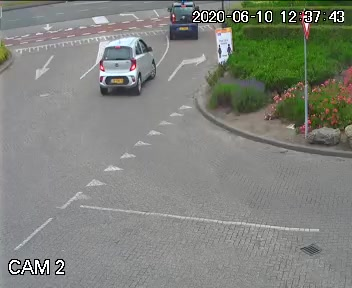car: (94, 33, 152, 95), (167, 0, 204, 45)
